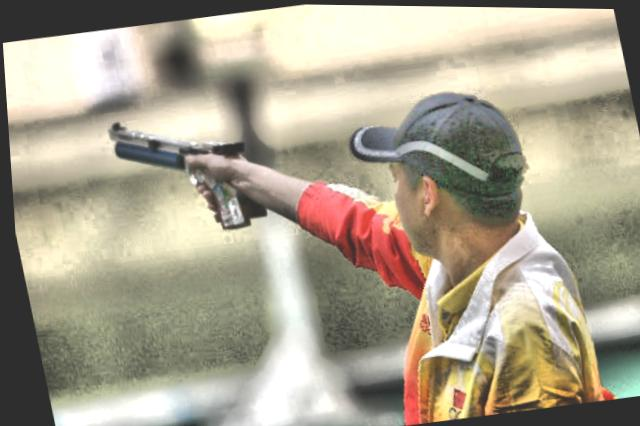pistol: (101, 103, 267, 245)
